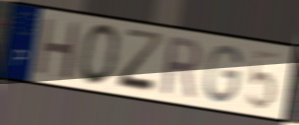5: (245, 47, 280, 112)
G: (203, 44, 244, 106)
H: (33, 15, 83, 82)
O: (77, 22, 123, 89)
R: (160, 34, 202, 101)
Z: (115, 27, 166, 97)
